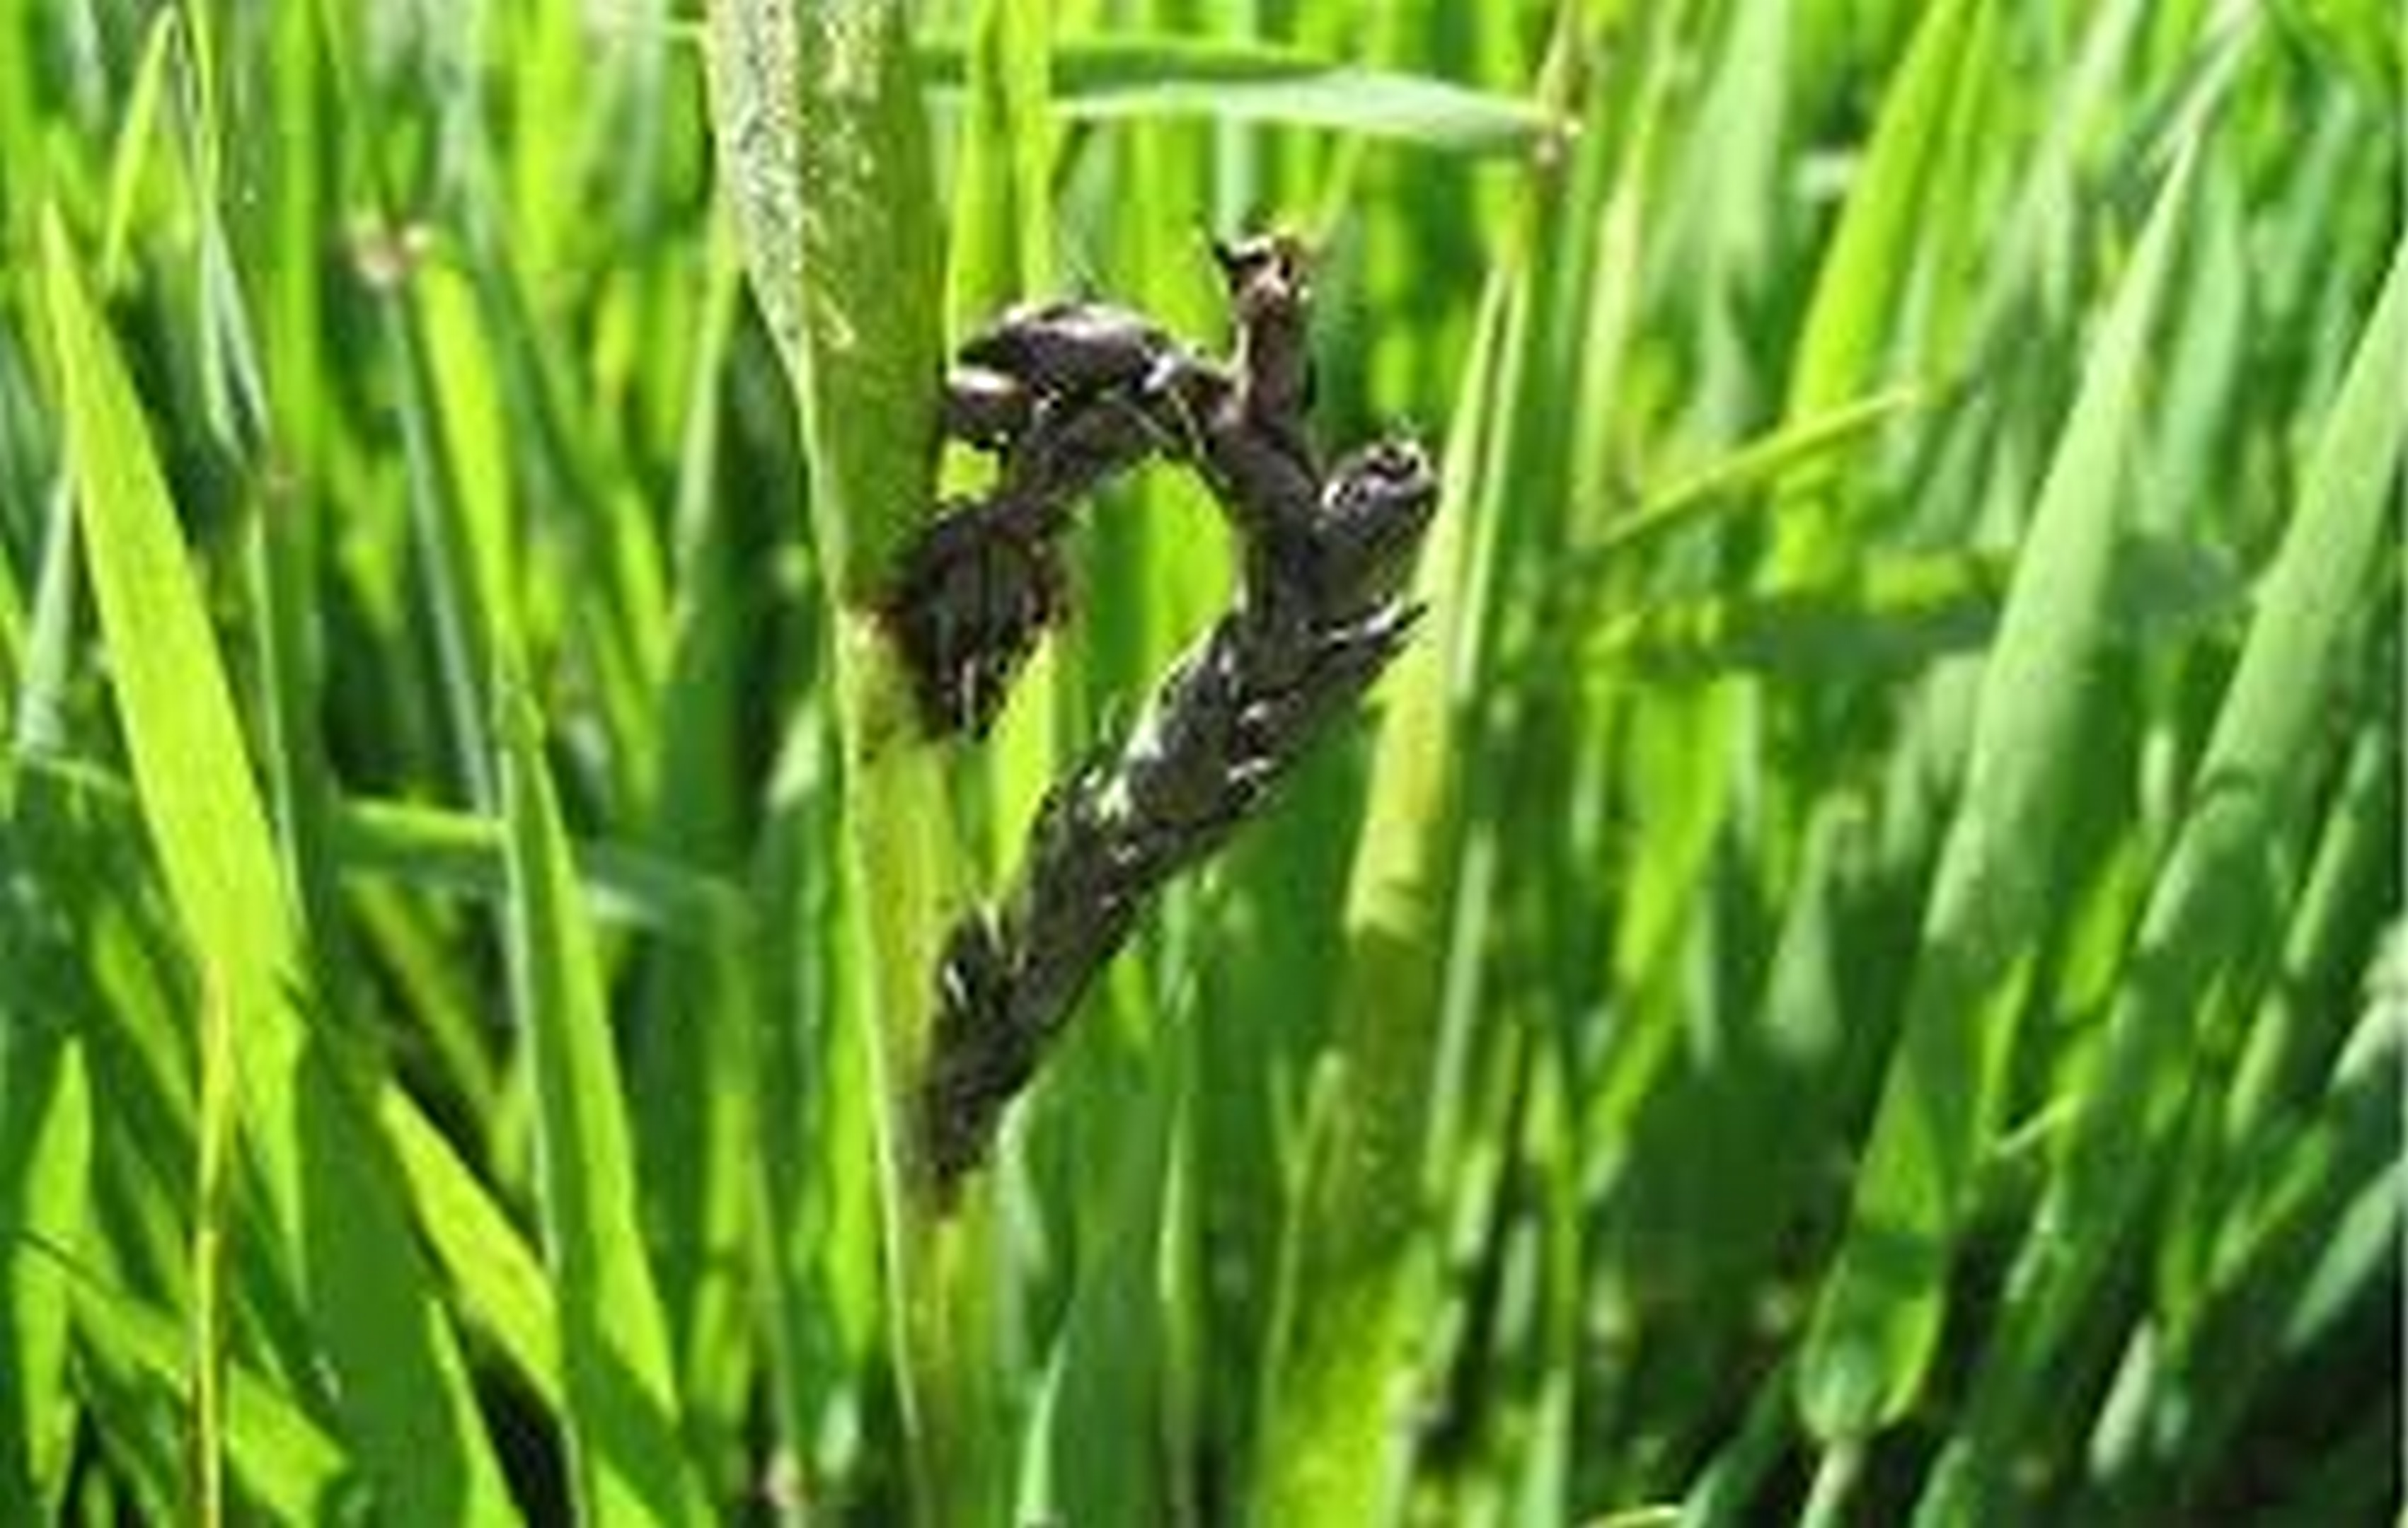Wheat Loose Smut: (846, 240, 1432, 1210)
